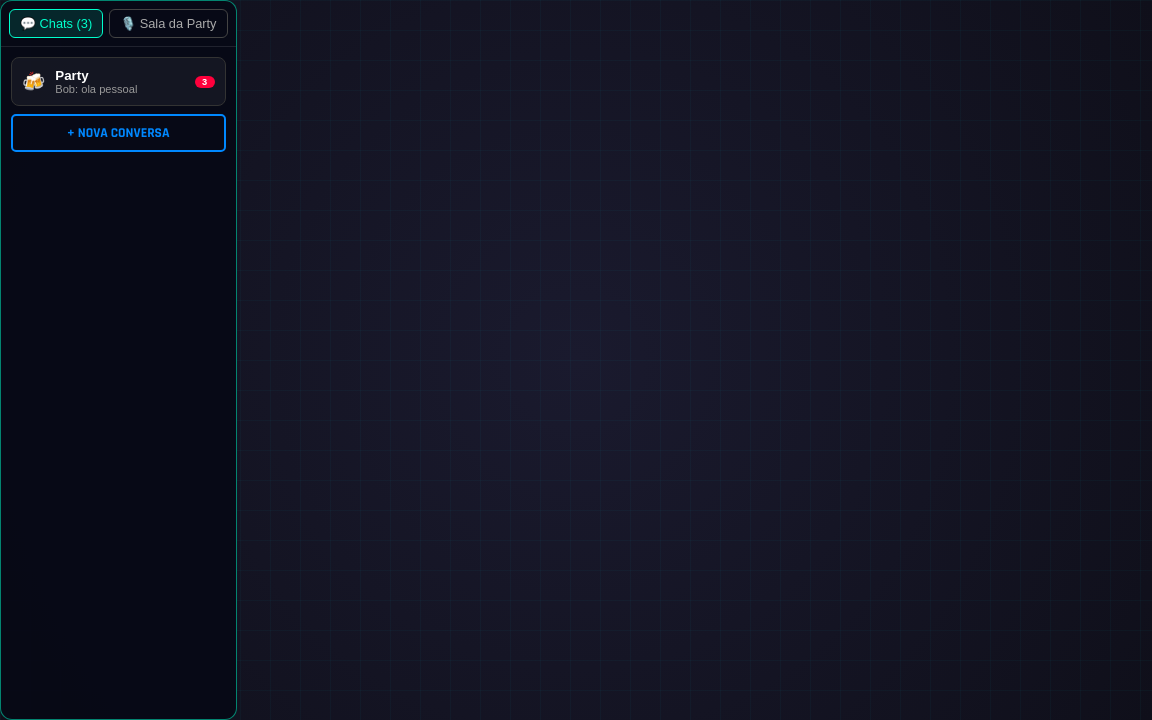
Test case: DockComunicacao › Sala da Party redesenhada (cartoes) › renderiza um cartao por pessoa com o nome e o titulo com a contagem
Click the button "🎙️ Sala da Party" at (168, 24), box 109,9 -> 228,38
(page scrolled)
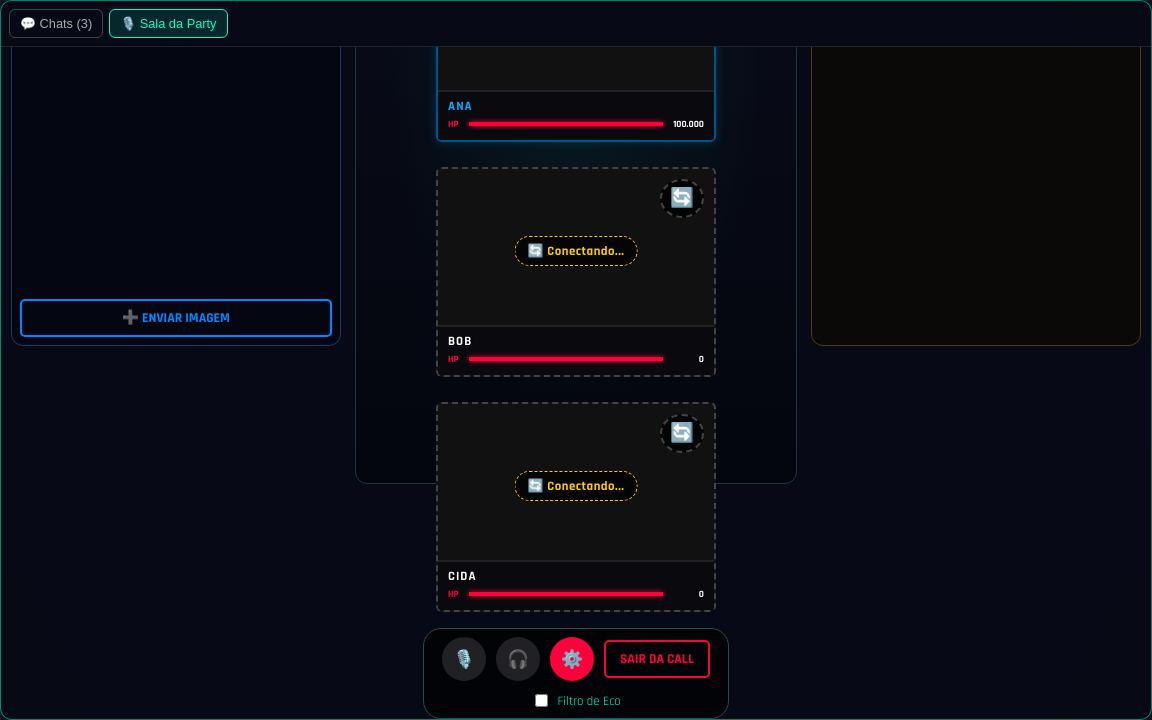
Expected: the text "Ana" is shown, 448,98 -> 473,114
Expected: the text "Bob" is shown, 448,333 -> 472,349
Expected: the text "Cida" is shown, 448,568 -> 476,584
